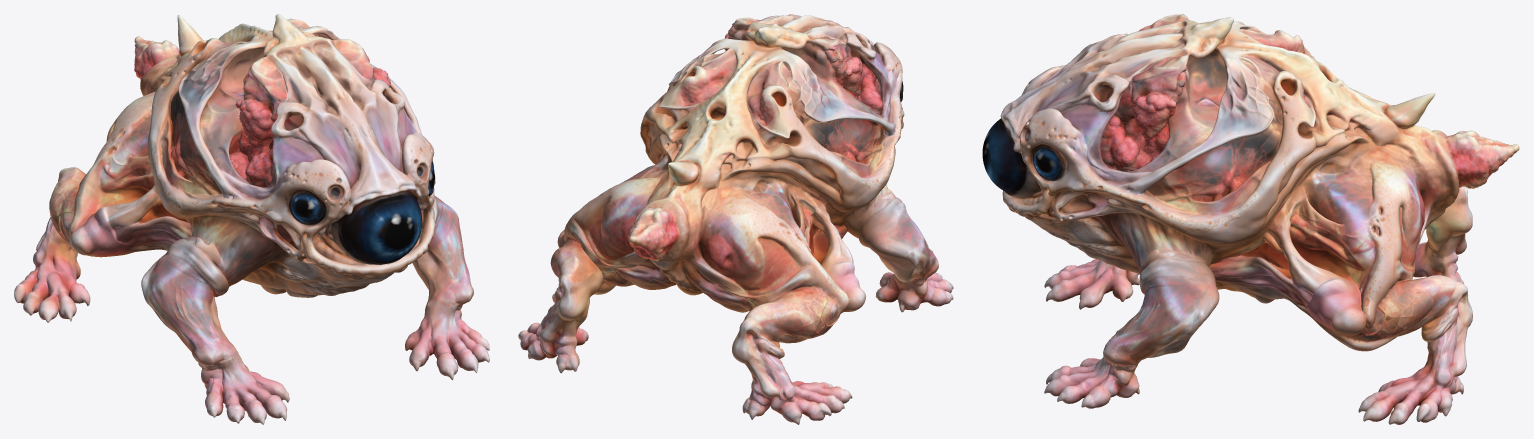
The model's file is eph1.glb.
3 renders of one model, left to right at view 1: azimuth 30°, elevation 25°; view 2: azimuth 150°, elevation 25°; view 3: azimuth 270°, elevation 25°, orthographic. The views are drawn at different scales.
Parts seen in each view (by area): view 1: tripo_node_e4ca292a-a586-41e2-8a54-6d62a359a832; view 2: tripo_node_e4ca292a-a586-41e2-8a54-6d62a359a832; view 3: tripo_node_e4ca292a-a586-41e2-8a54-6d62a359a832.
Part boxes in pixels (<box>): tripo_node_e4ca292a-a586-41e2-8a54-6d62a359a832: <box>14,14,489,424</box>; tripo_node_e4ca292a-a586-41e2-8a54-6d62a359a832: <box>518,14,953,424</box>; tripo_node_e4ca292a-a586-41e2-8a54-6d62a359a832: <box>982,14,1519,424</box>.
Bounding box in the file's own units: 0.7374 × 0.6564 × 0.98.
Materials: 1 (1 with a texture image).
